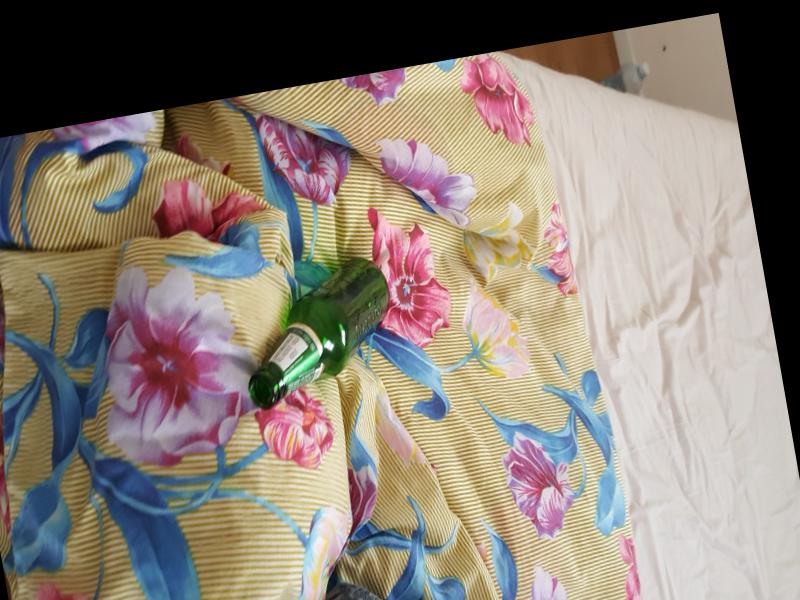Beer: (228, 253, 403, 409)
